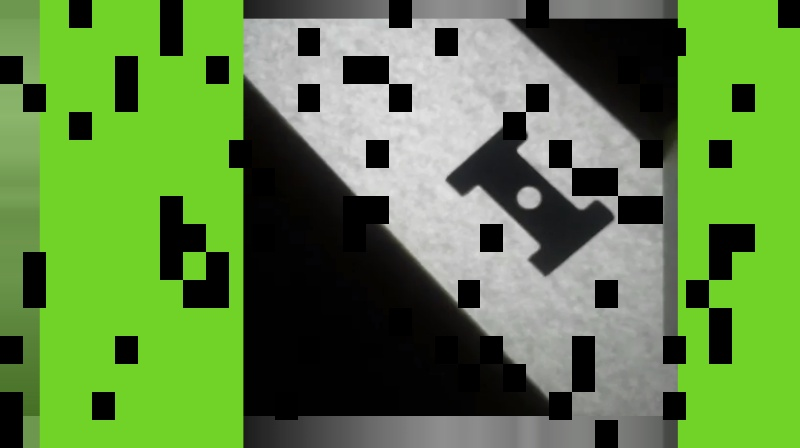O002: (442, 115, 616, 279)
